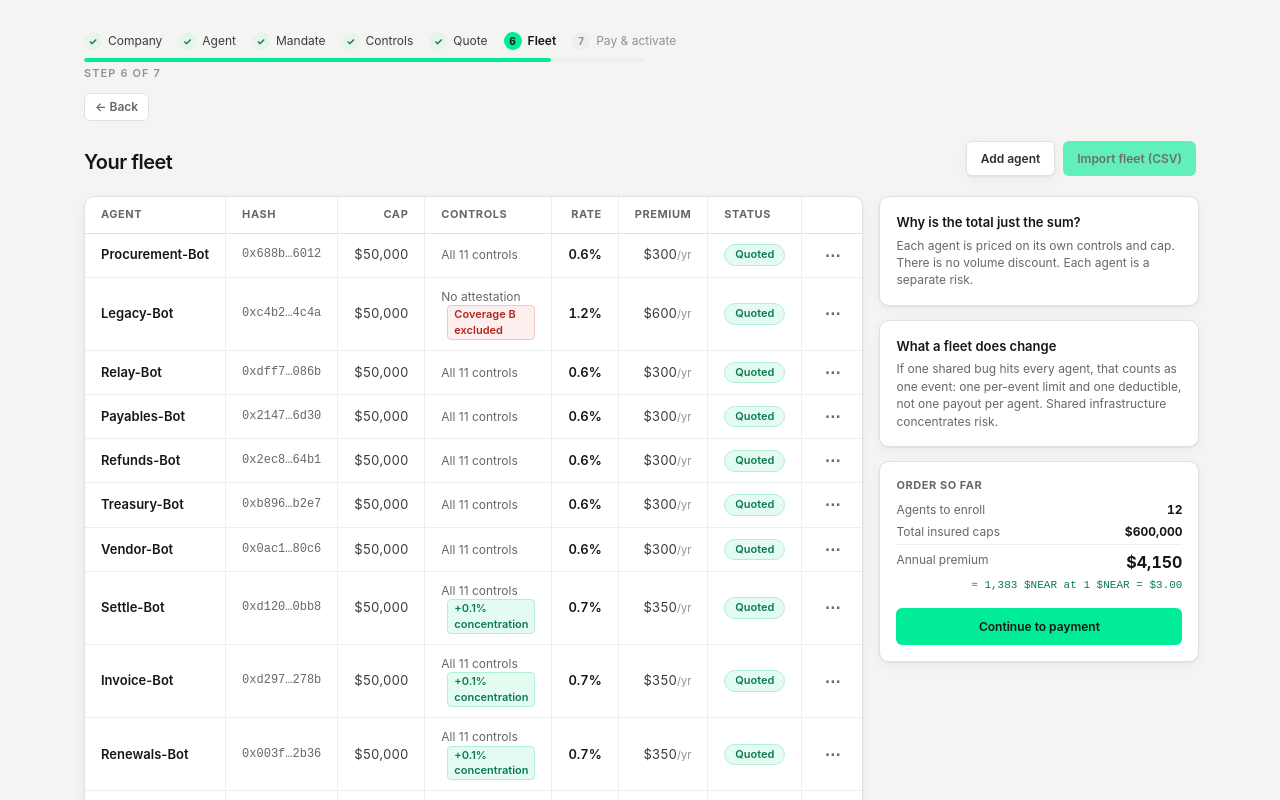
Test: 7.7 — de-enroll menu (REQ-7.7.4, D7) › offers the pro-rata refund with "past events remain claimable" copy
Click the button with test id "row-menu-relay-bot": {"x": 832, "y": 372} x1=818 y1=361 x2=846 y2=384
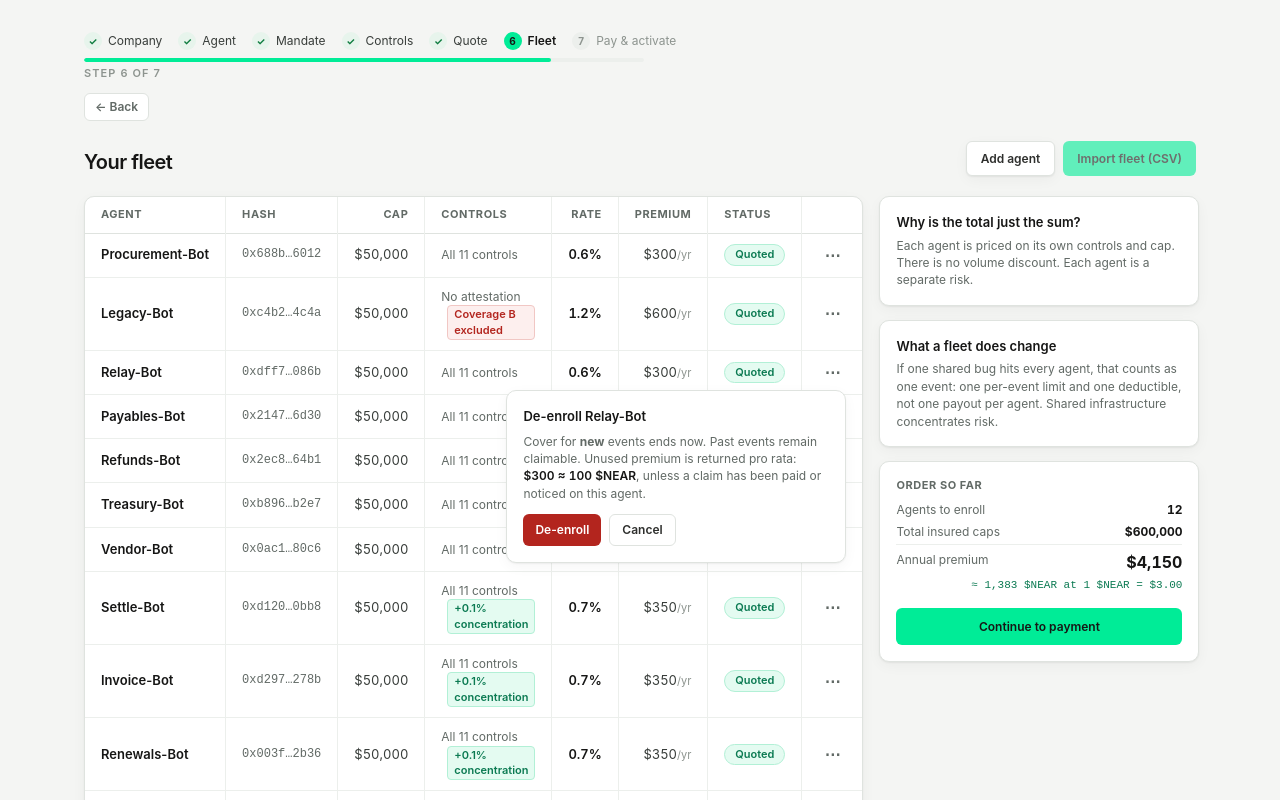
Result: the element with test id "deenroll-menu-relay-bot" shows "Past events remain claimable" at x1=523 y1=434 x2=817 y2=466
Result: the element with test id "deenroll-refund" shows "pro rata" at x1=584 y1=451 x2=797 y2=466
Result: the element with test id "deenroll-refund" shows "$300" at x1=523 y1=468 x2=554 y2=483
